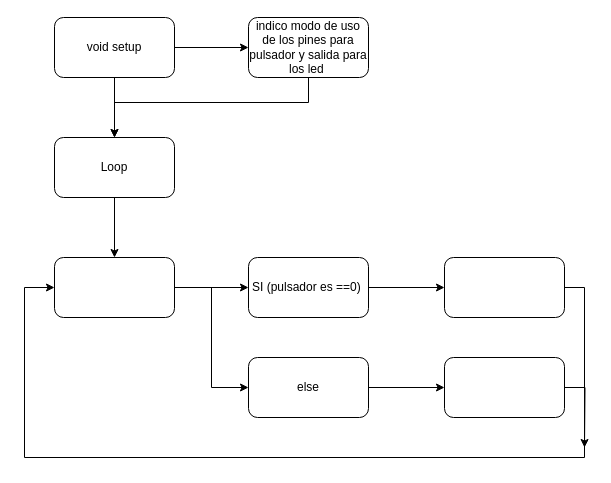
Some shapes in this 611 by 483 pixel diagram are drawn without their labels. The shapes that lost their labels are listed below. From the top down, each one's box as (x1, y1, x2, y2) in pixels, then its label:
(54, 256, 174, 318): genero lectura de pin de pulsador
(444, 256, 564, 318): led 1 enciende, led 2 apaga
(444, 356, 564, 418): led 1 apagado, led 2 encendido
